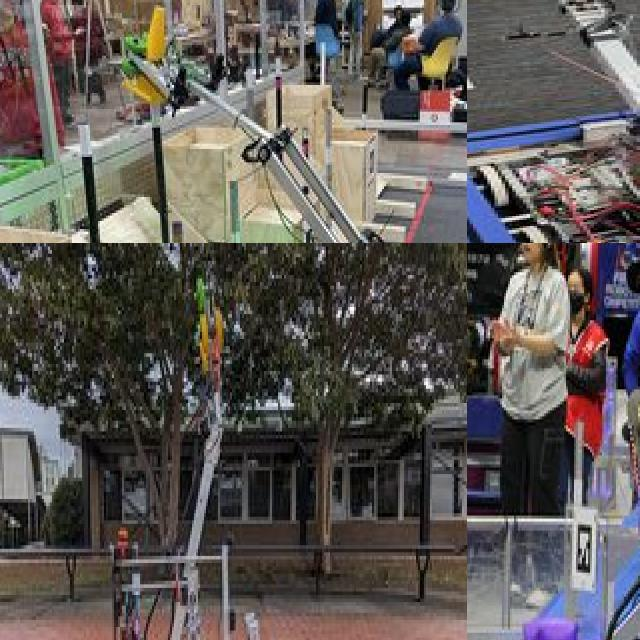FRC-Robots: (46, 277, 329, 640), (97, 0, 467, 243), (524, 251, 640, 640), (467, 0, 640, 243)
